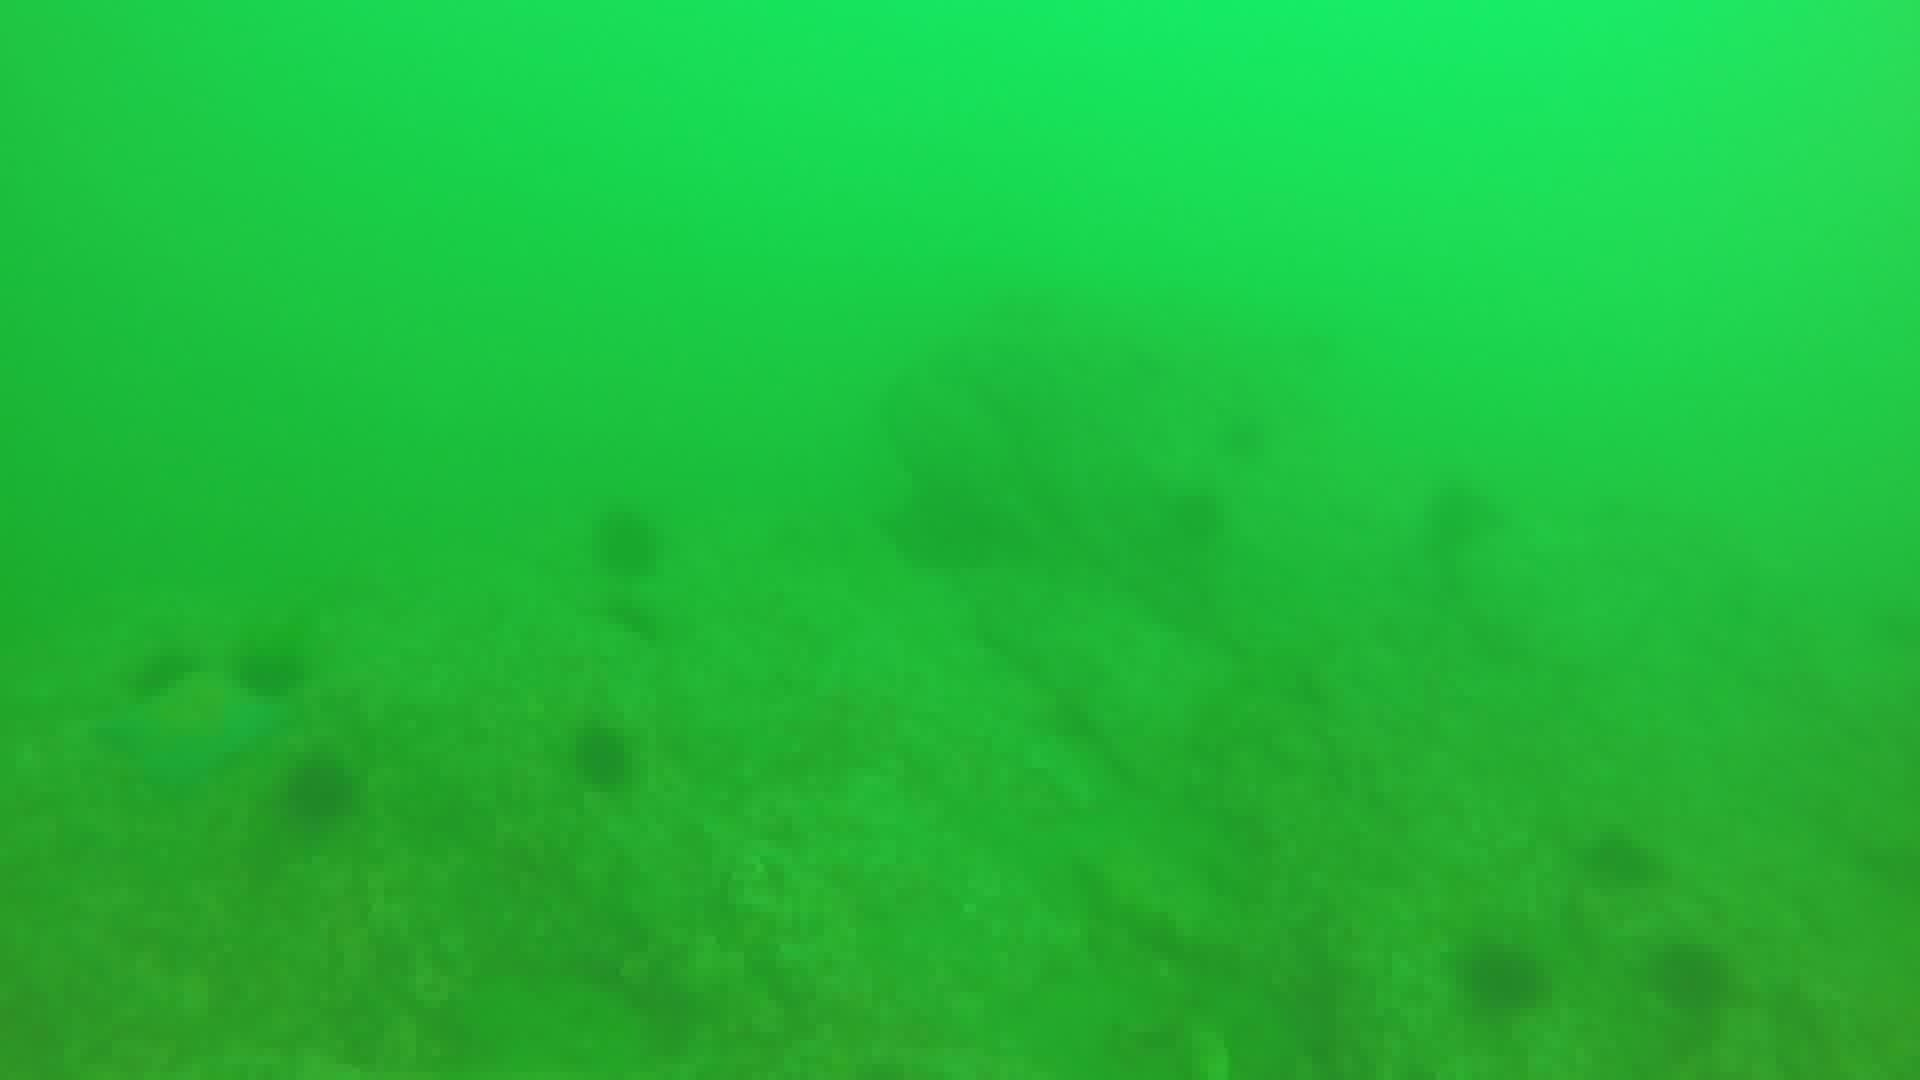echinus: (881, 472, 1013, 574), (1453, 934, 1552, 1017), (1644, 934, 1735, 1015), (277, 748, 364, 829), (1416, 473, 1505, 553), (585, 501, 669, 582), (1575, 824, 1667, 893), (564, 717, 641, 795), (231, 636, 313, 702), (1159, 481, 1232, 551), (124, 640, 200, 703), (1211, 404, 1276, 465)
starfish: (98, 670, 287, 793)
